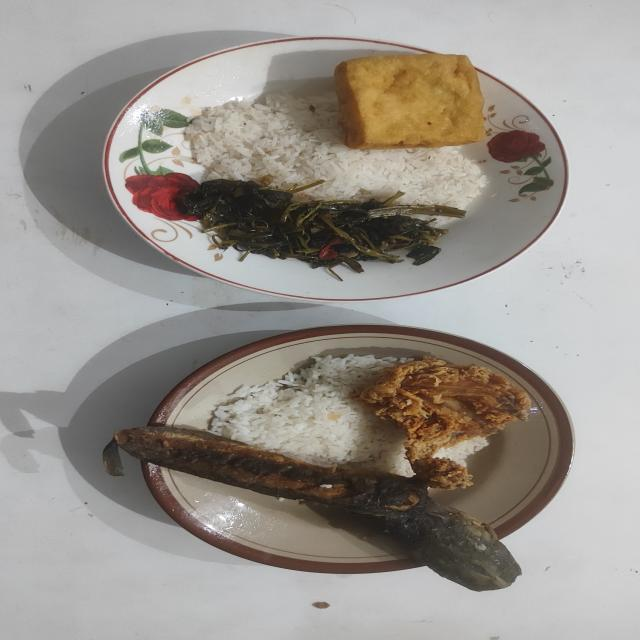nasi_putih: (186, 92, 486, 208), (207, 354, 412, 476), (434, 437, 488, 467)
tahu_goreng: (334, 54, 484, 150)
tumis_kangkung: (176, 178, 465, 282)
